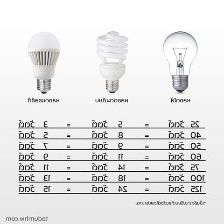light_bulb: (159, 28, 201, 94), (24, 28, 62, 97), (94, 27, 131, 96)
